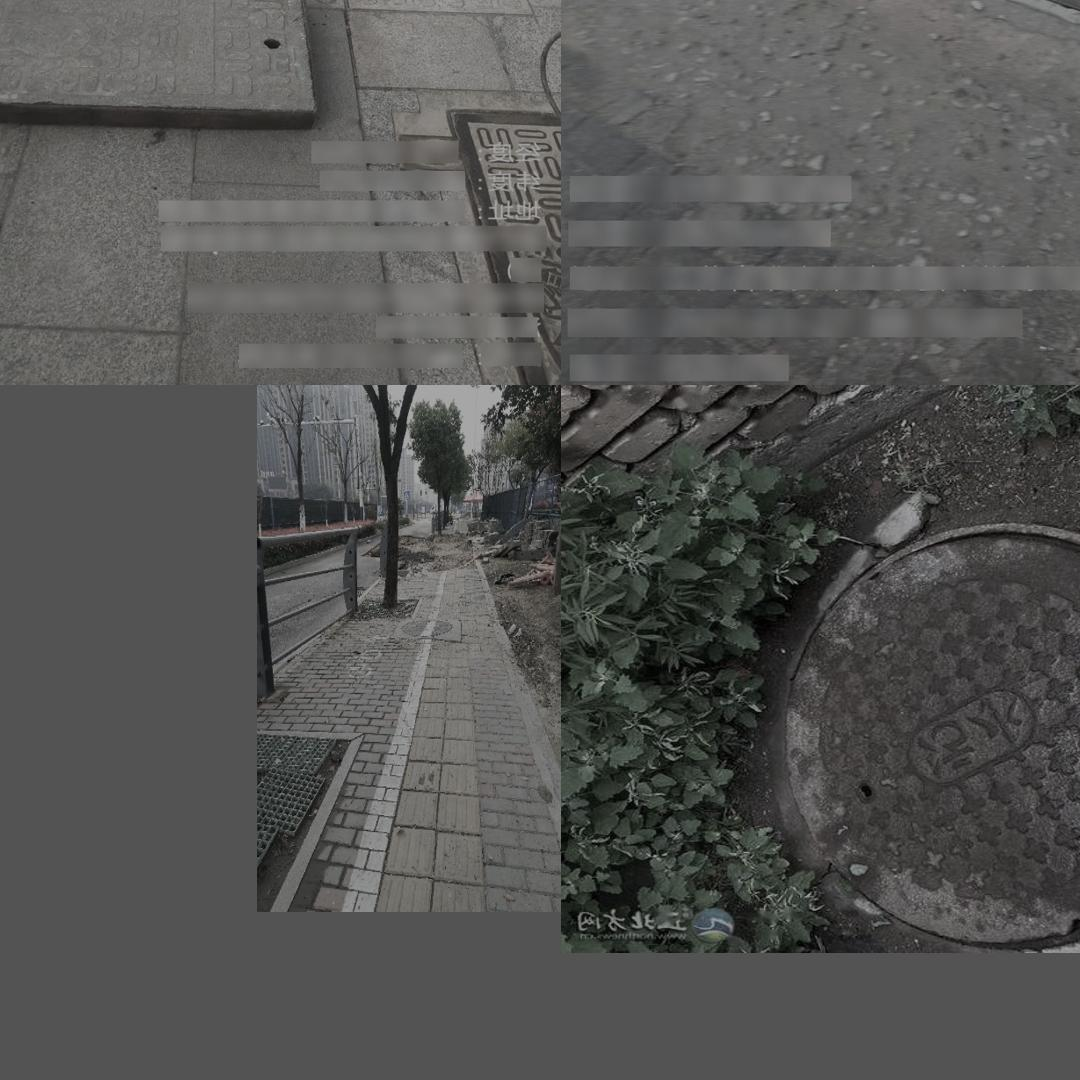good: (756, 516, 1080, 948), (837, 0, 1080, 59), (400, 616, 451, 638)
uncovered: (0, 0, 317, 130)
